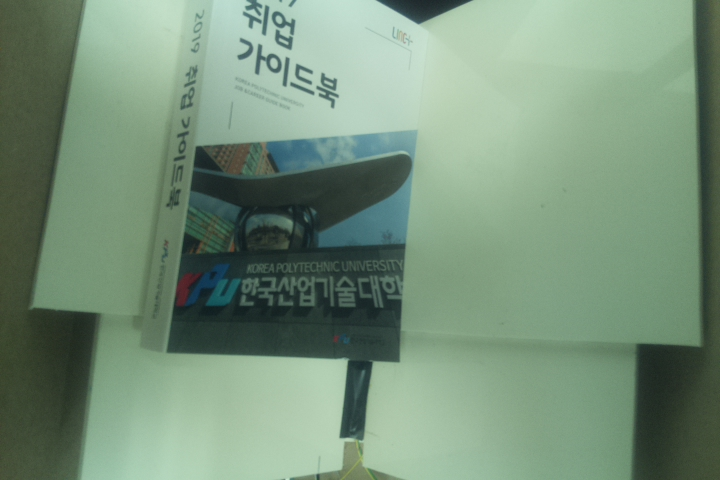book: (136, 1, 439, 363)
